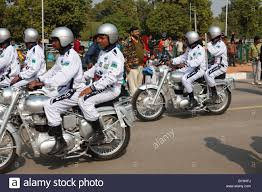helmet: (48, 24, 79, 58), (92, 25, 126, 52), (183, 25, 225, 45), (17, 23, 43, 45)
